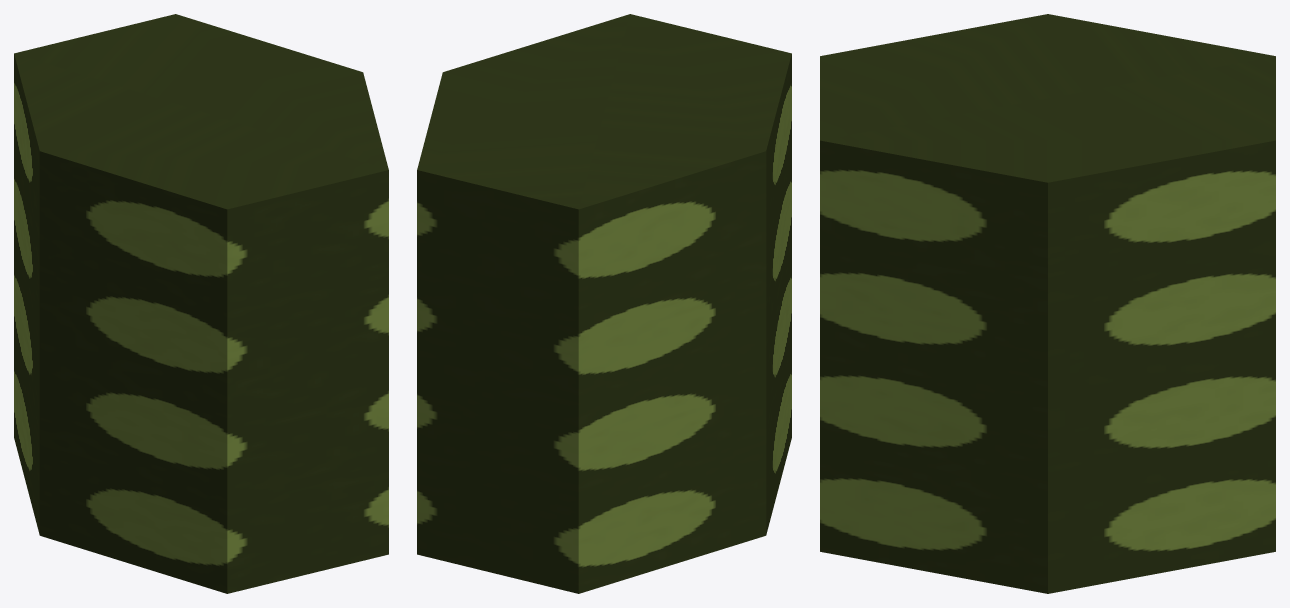
3 renders of one model, left to right at view 1: azimuth 30°, elevation 25°; view 2: azimuth 150°, elevation 25°; view 3: azimuth 270°, elevation 25°, orthographic. The views are drawn at different scales.
Visible parts, largest first — view 1: geometry_0; view 2: geometry_0; view 3: geometry_0.
Boxes of the visible parts, <box> form: geometry_0: <box>14,14,388,593</box>; geometry_0: <box>417,14,791,593</box>; geometry_0: <box>820,14,1275,593</box>.
Bounding box in the file's own units: 2.16 × 2.46 × 2.47.
1 material, 1 textured.
